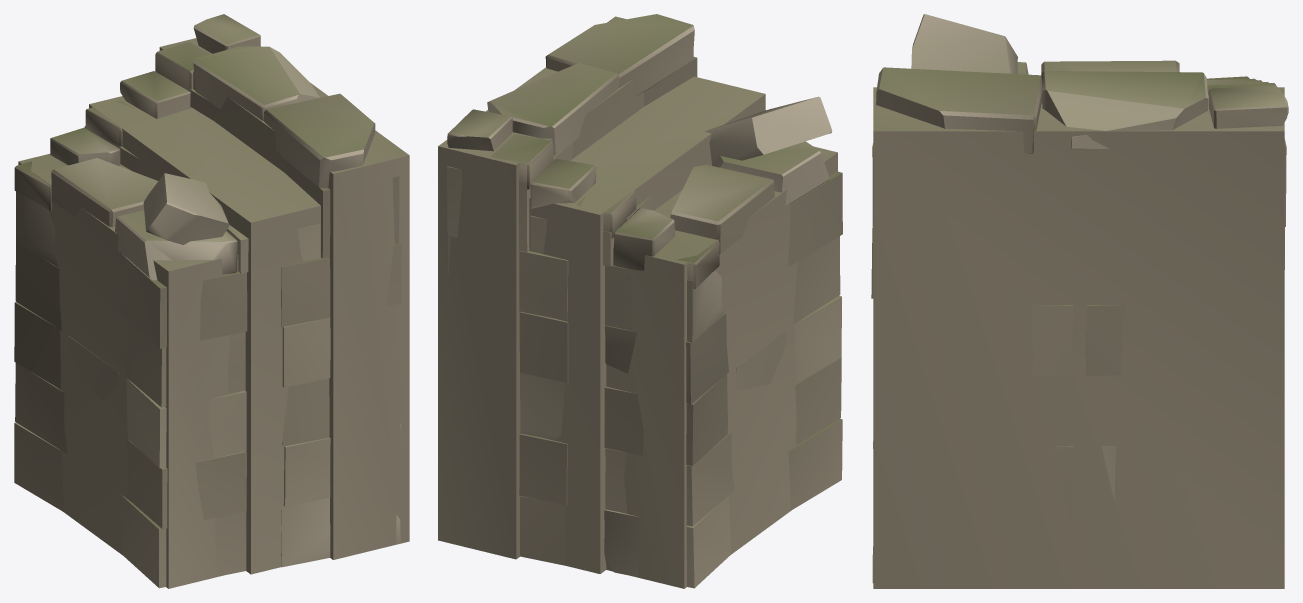
Rendered from theatre_seat_broken_2.glb.
The picture shows the model from 3 angles, left to right: view 1: azimuth 30°, elevation 25°; view 2: azimuth 150°, elevation 25°; view 3: azimuth 270°, elevation 25°; orthographic projection. The views are drawn at different scales.
Parts seen in each view (by area): view 1: theatre_seat_broken_2_far, theatre_seat_broken_2; view 2: theatre_seat_broken_2_far, theatre_seat_broken_2; view 3: theatre_seat_broken_2_far, theatre_seat_broken_2.
Boxes of the visible parts, left/top/right/bottom form: theatre_seat_broken_2_far: left=18, top=38, right=409, bottom=588; theatre_seat_broken_2: left=14, top=14, right=401, bottom=588; theatre_seat_broken_2_far: left=438, top=16, right=837, bottom=588; theatre_seat_broken_2: left=447, top=14, right=842, bottom=588; theatre_seat_broken_2_far: left=873, top=80, right=1284, bottom=588; theatre_seat_broken_2: left=871, top=14, right=1288, bottom=582.
Size of the model in its own units: 8.77 by 14.09 by 11.15.
